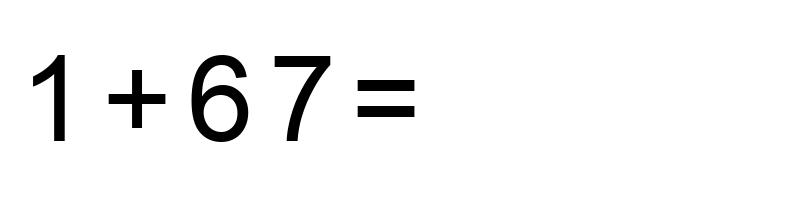+: (102, 32, 172, 167)
1: (20, 32, 87, 167)
6: (187, 32, 254, 167)
7: (269, 32, 336, 167)
=: (351, 32, 421, 167)
